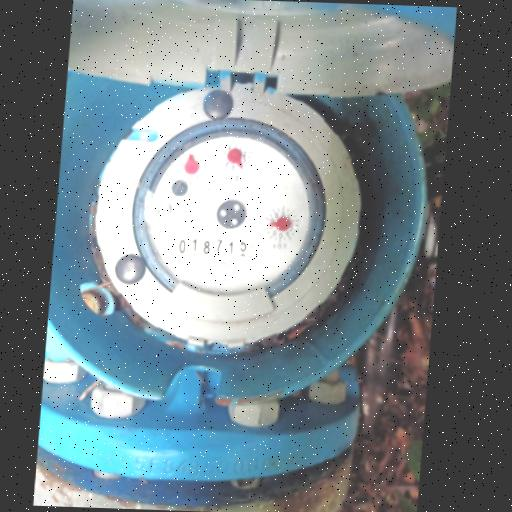0: (177, 238, 190, 256)
1: (189, 238, 202, 257), (226, 240, 239, 258)
5: (238, 240, 250, 258)
7: (214, 239, 227, 257)
8: (202, 238, 213, 257)
border_water_meter_number: (176, 237, 253, 259)
